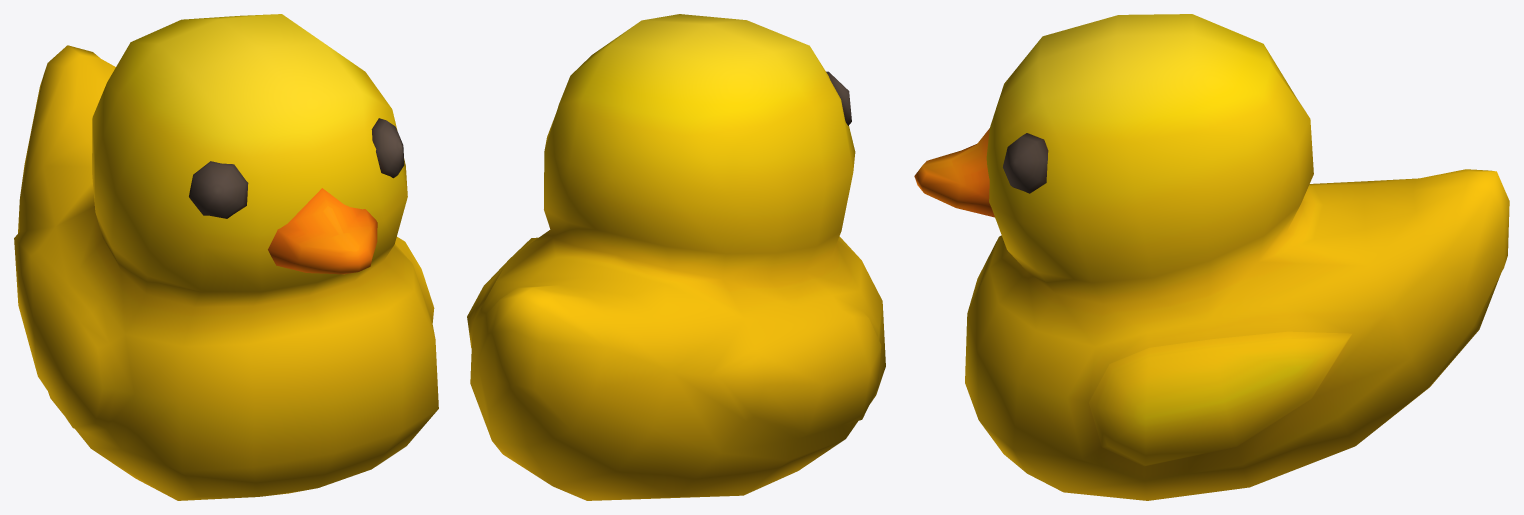
File: Duck Toy.fbx
The picture shows the model from 3 angles, left to right: view 1: azimuth 30°, elevation 25°; view 2: azimuth 150°, elevation 25°; view 3: azimuth 270°, elevation 25°; orthographic projection.
Visible parts, largest first — view 1: Duck Toy; view 2: Duck Toy; view 3: Duck Toy.
Boxes of the visible parts, x1,y1,x2,y2 form: Duck Toy: (14, 14, 438, 500); Duck Toy: (467, 14, 885, 500); Duck Toy: (914, 14, 1509, 500).
Bounding box in the file's own units: 12.05 × 13.82 × 17.42.
1 material, 1 textured.
